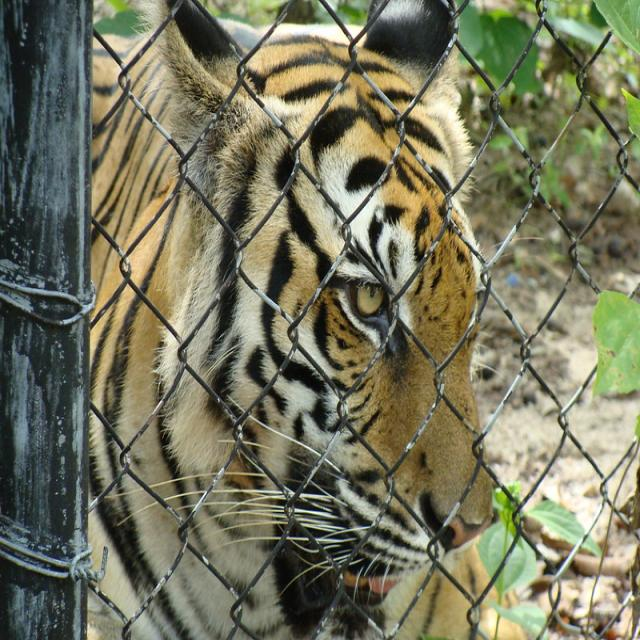Tiger: (82, 2, 498, 636)
